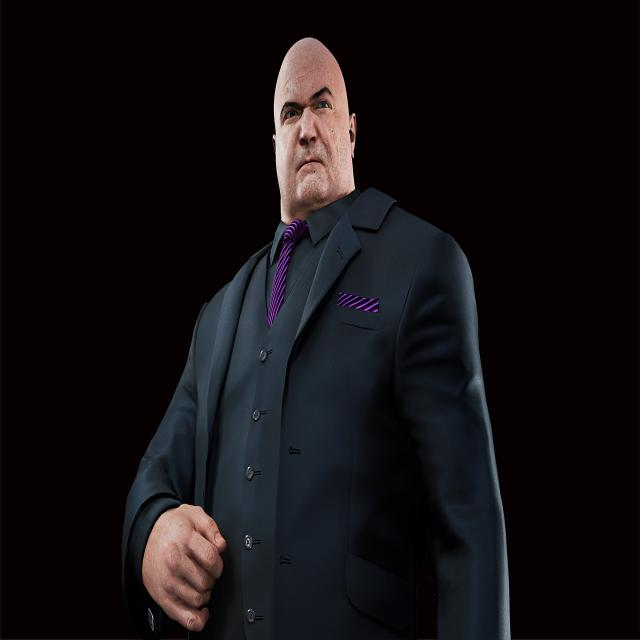mobile_phonerotation: (120, 34, 512, 636)
